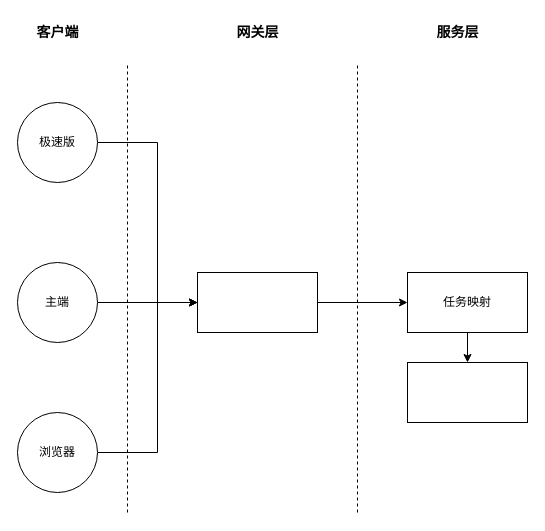
The diagram is 545 pixels wide and 531 high, and some of its shapes have lost their labels. Each missing label, with the centre of its shape:
"daily_api网关" belongs at (257,302).
"任务处理逻辑" belongs at (467,392).
